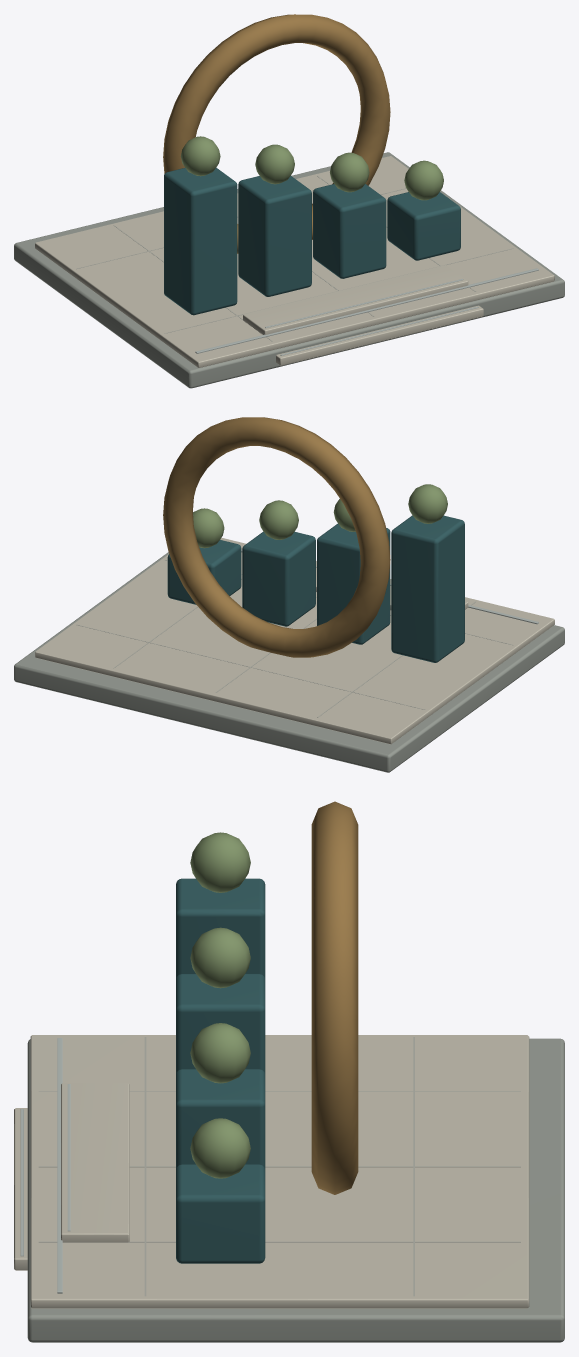
Rendered from idea-315b95be.glb.
The picture shows the model from 3 angles, top to bottom: view 1: azimuth 30°, elevation 25°; view 2: azimuth 150°, elevation 25°; view 3: azimuth 270°, elevation 25°; orthographic projection. The views are drawn at different scales.
Parts seen in each view (by area): view 1: Karmic Investor Portal; view 2: Karmic Investor Portal; view 3: Karmic Investor Portal.
Part boxes in pixels (x1,y1,x2,y2): Karmic Investor Portal: [14, 14, 564, 388]; Karmic Investor Portal: [14, 417, 564, 772]; Karmic Investor Portal: [14, 801, 564, 1342].
Size of the model in its own units: 4.8 by 3.08 by 4.
